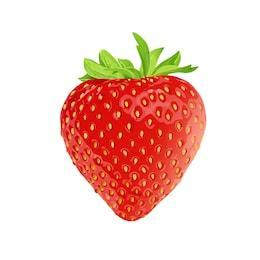Fresa: (56, 67, 213, 224)
